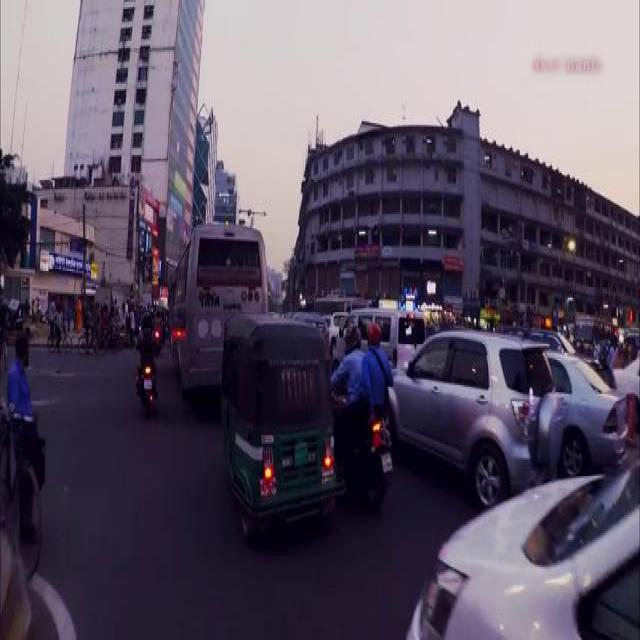10: (330, 392, 392, 512), (136, 331, 156, 409)
17: (220, 310, 336, 533)
19: (337, 306, 425, 366)
5: (388, 326, 564, 506), (545, 346, 627, 472)
9: (404, 442, 638, 635)
Motorcycle: (76, 321, 105, 355), (46, 323, 72, 349)
Truck: (172, 221, 268, 387), (572, 311, 614, 347)
